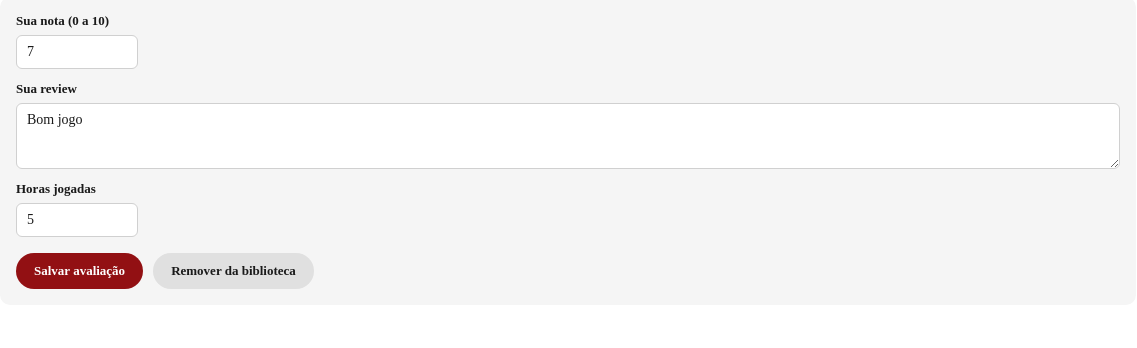
Scenario: Edição da biblioteca pessoal › exibe mensagem da API quando não consegue salvar
The width and height of the screenshot is (1137, 348).
Click the button "Salvar avaliação" at (80, 271), box [16,253,143,289]
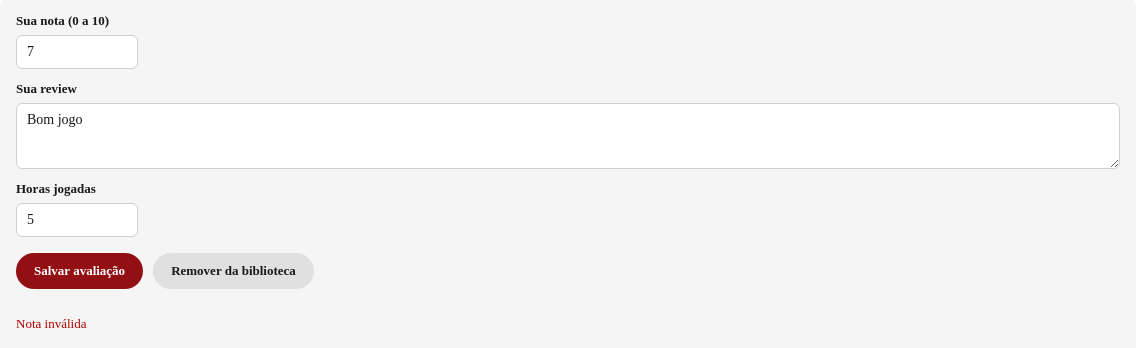
Expected: the text "Nota inválida" is shown, [16,316,86,331]
